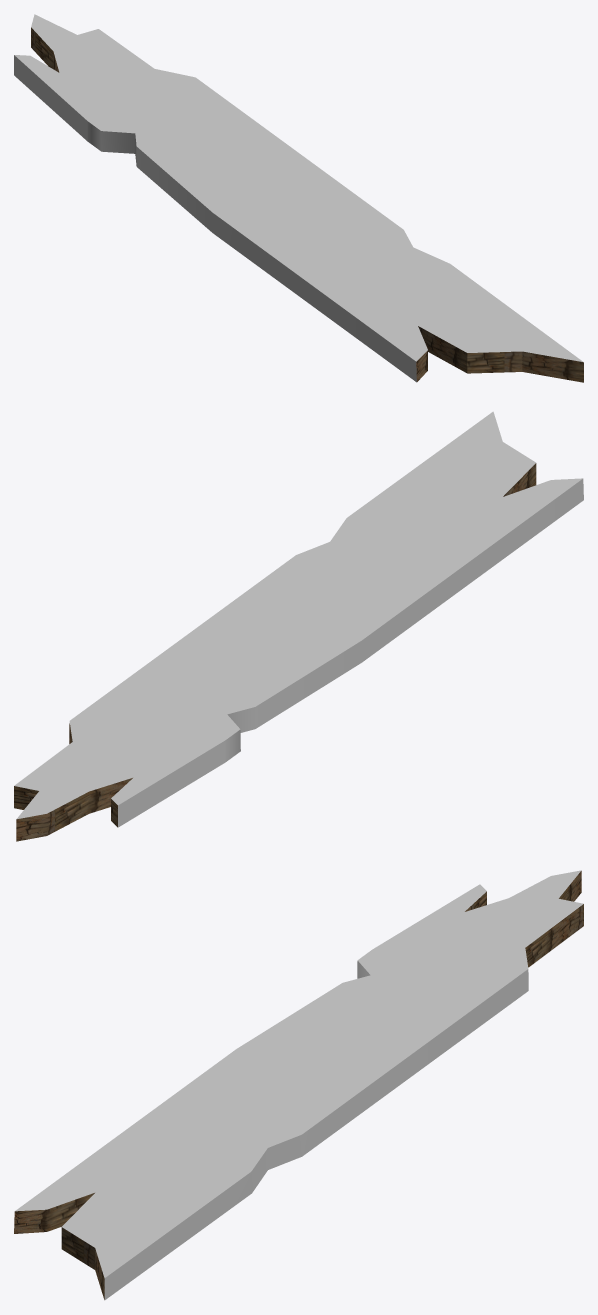
The model's file is lower_city_wood_plank_09.fbx.
The picture shows the model from 3 angles, top to bottom: view 1: azimuth 30°, elevation 25°; view 2: azimuth 150°, elevation 25°; view 3: azimuth 330°, elevation 25°; orthographic projection. The views are drawn at different scales.
Parts seen in each view (by area): view 1: lower_city_wood_plank_09; view 2: lower_city_wood_plank_09; view 3: lower_city_wood_plank_09.
Part boxes in pixels (left/top/right/bottom): lower_city_wood_plank_09: left=14, top=14, right=583, bottom=382; lower_city_wood_plank_09: left=14, top=411, right=583, bottom=841; lower_city_wood_plank_09: left=14, top=870, right=583, bottom=1300.
Size of the model in its own units: 0.4967 by 0.0772 by 3.38.
